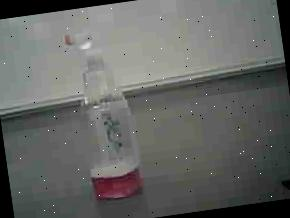hazard: (52, 16, 162, 208)
